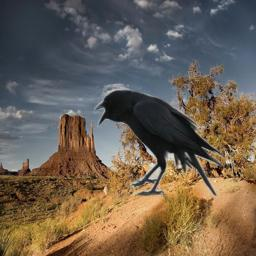Crow: (94, 89, 224, 197)
